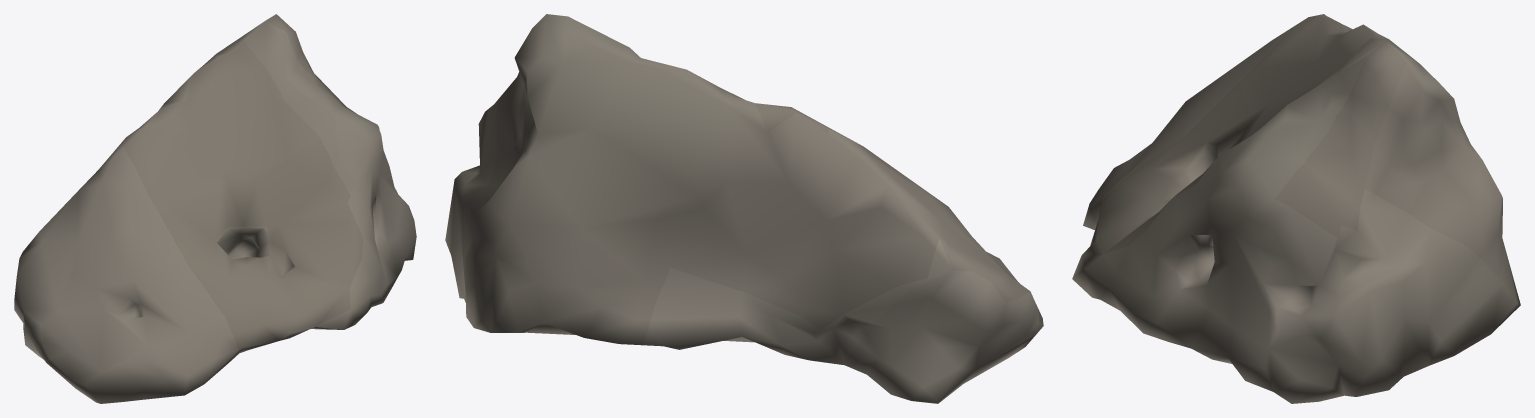
Rendered from ph_moonrock_7.glb.
The picture shows the model from 3 angles, left to right: view 1: azimuth 30°, elevation 25°; view 2: azimuth 150°, elevation 25°; view 3: azimuth 270°, elevation 25°; orthographic projection. The views are drawn at different scales.
Visible parts, largest first — view 1: ph_moonrock_7_lod1; view 2: ph_moonrock_7_lod1; view 3: ph_moonrock_7_lod1.
Boxes of the visible parts, x1=… form: ph_moonrock_7_lod1: x1=14, y1=14, x2=416, y2=403; ph_moonrock_7_lod1: x1=445, y1=14, x2=1043, y2=403; ph_moonrock_7_lod1: x1=1072, y1=14, x2=1520, y2=403.
Size of the model in its own units: 0.0968 by 0.0605 by 0.074.
1 material, 1 textured.
